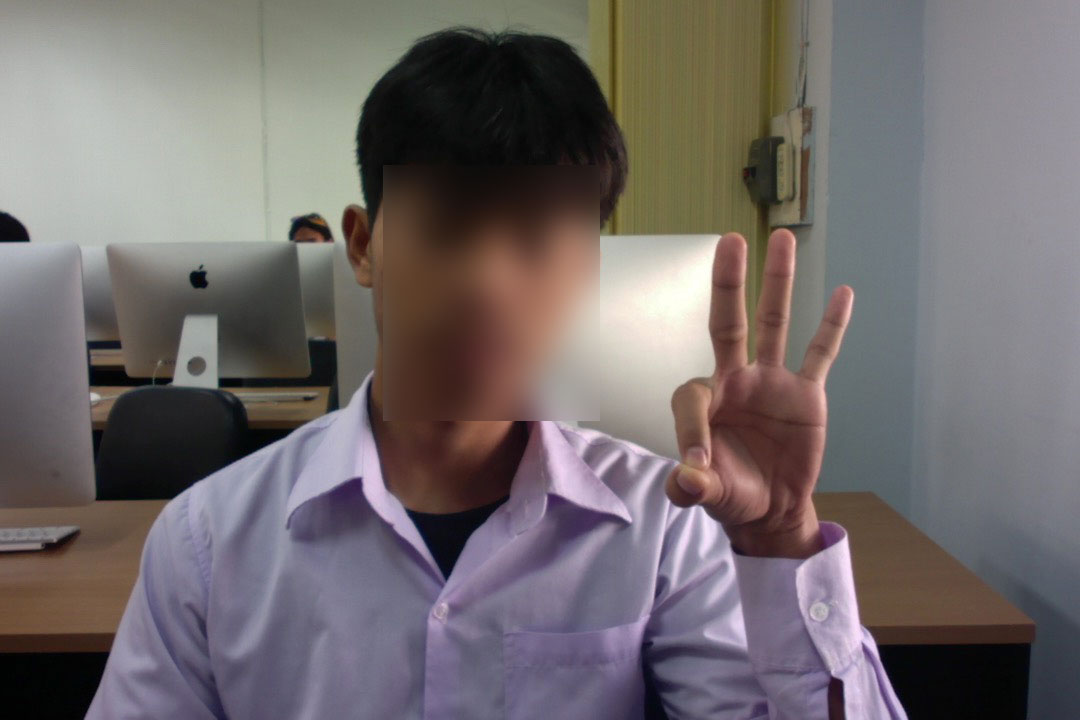for: (631, 206, 893, 580)
